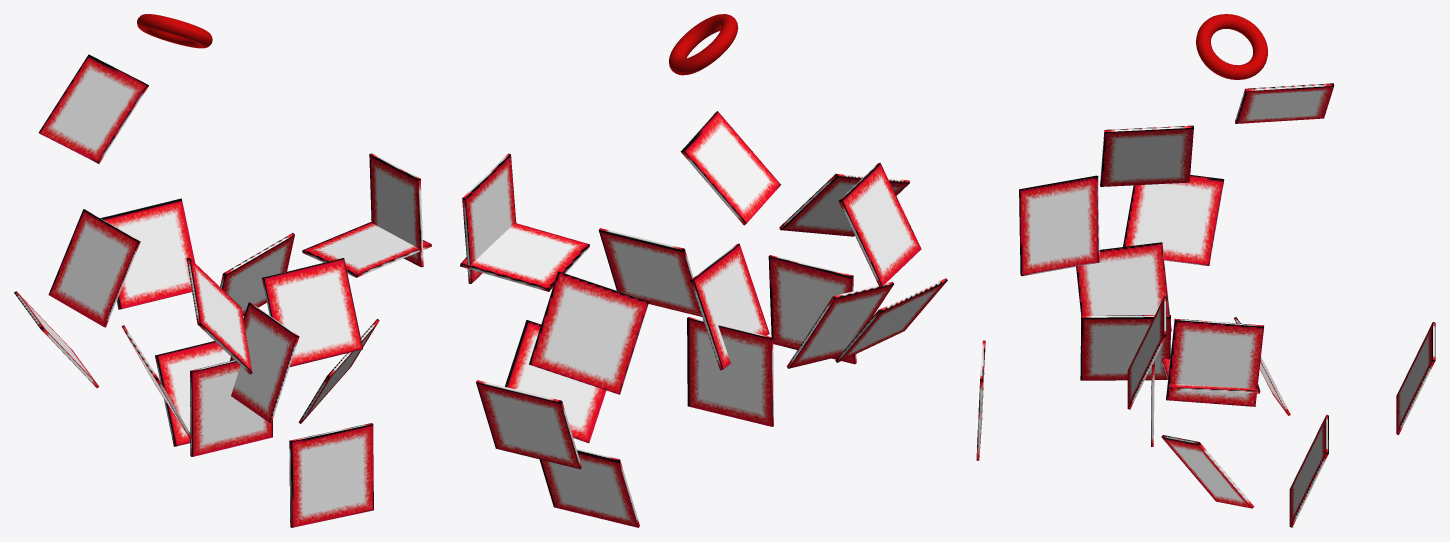
The model's file is bouncelevel15panels.fbx.
3 renders of one model, left to right at view 1: azimuth 30°, elevation 25°; view 2: azimuth 150°, elevation 25°; view 3: azimuth 270°, elevation 25°, orthographic. The views are drawn at different scales.
Visible parts, largest first — view 1: mainpanel; view 2: mainpanel; view 3: mainpanel.
Boxes of the visible parts, x1=… form: mainpanel: x1=14, y1=14, x2=431, y2=527; mainpanel: x1=460, y1=14, x2=947, y2=527; mainpanel: x1=976, y1=14, x2=1435, y2=527.
Bounding box in the file's own units: 1516 × 1662 × 1532.
Materials: 1 (1 with a texture image).
